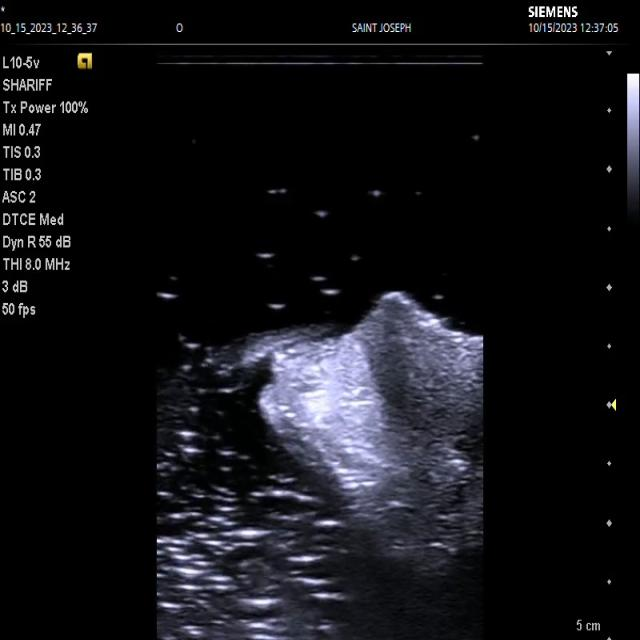tissue: (190, 292, 484, 567)
